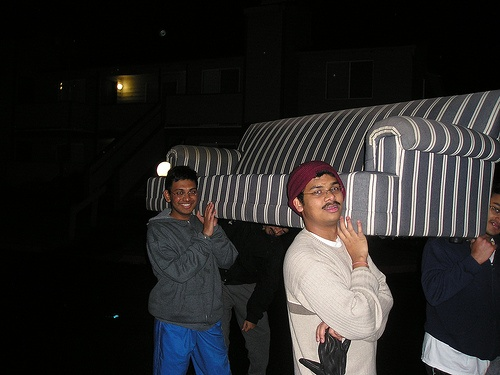head: (287, 160, 346, 225), (162, 163, 201, 216), (476, 188, 500, 232)
person: (283, 159, 390, 373), (143, 160, 236, 368), (420, 184, 498, 375), (221, 224, 289, 374)
